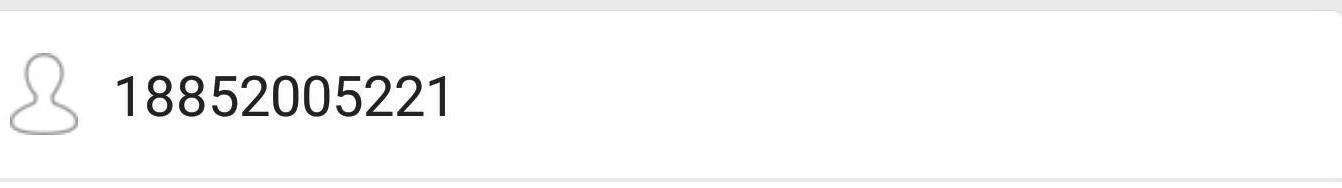EditText: (1, 1, 1341, 187)
